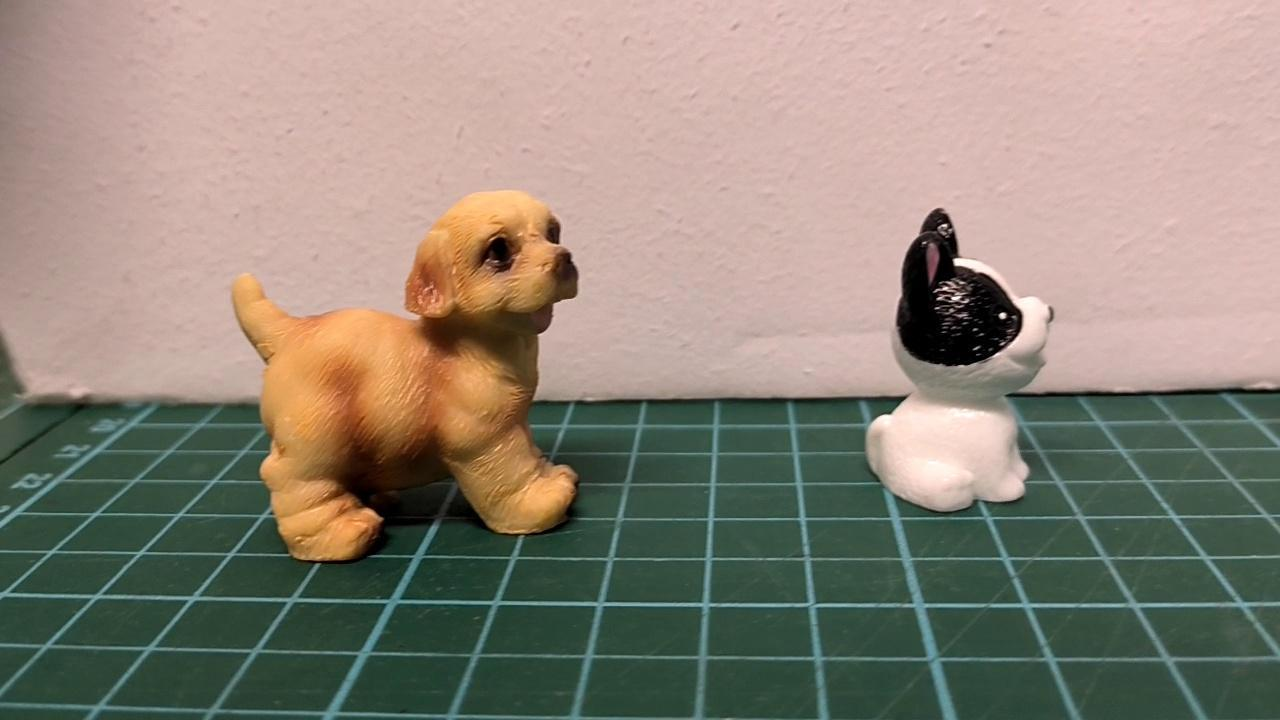pet: (230, 191, 580, 564), (865, 205, 1055, 514)
